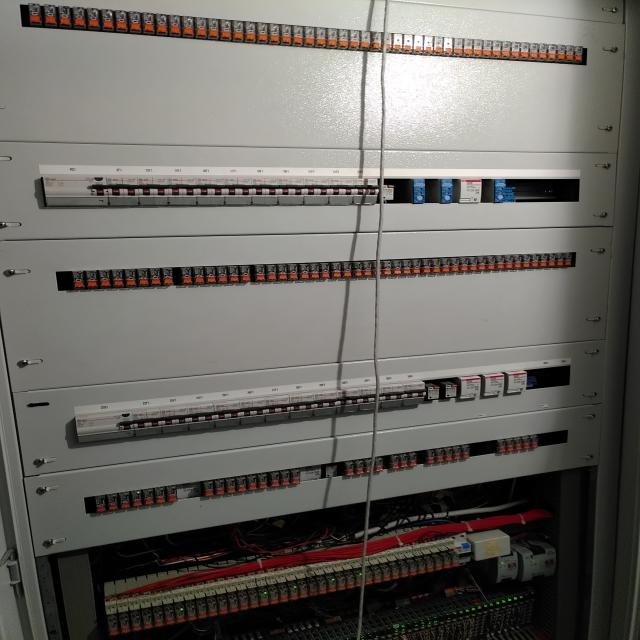Dimmer: (494, 179, 516, 203), (459, 179, 481, 203), (410, 178, 427, 204), (460, 378, 480, 398), (484, 374, 504, 394), (438, 179, 454, 203), (178, 483, 201, 498), (300, 466, 322, 481), (508, 373, 526, 391)
FI_Sicherungskombi: (450, 533, 472, 563)
Leitungsschutzschalter: (38, 166, 110, 207), (73, 407, 135, 440), (107, 166, 141, 207), (137, 167, 171, 206), (131, 399, 165, 436), (196, 167, 225, 207), (168, 167, 198, 205), (224, 167, 252, 205), (277, 168, 305, 205), (302, 168, 330, 205), (163, 396, 190, 434), (252, 168, 278, 204), (328, 168, 354, 204), (188, 395, 216, 428), (214, 391, 241, 425), (264, 387, 292, 419), (240, 389, 266, 423), (335, 380, 362, 412), (311, 381, 337, 414), (289, 385, 314, 418), (353, 169, 376, 203), (377, 377, 403, 407), (401, 374, 426, 405), (360, 379, 381, 410), (380, 181, 400, 203), (441, 382, 458, 398), (426, 384, 440, 401)
Relais: (57, 6, 73, 28), (28, 4, 42, 28), (72, 7, 87, 29), (86, 8, 101, 30), (127, 11, 142, 33), (43, 5, 57, 28), (141, 12, 155, 34), (114, 10, 128, 32), (154, 14, 168, 35), (169, 15, 182, 37), (575, 44, 590, 63), (102, 9, 115, 30), (232, 20, 245, 41), (256, 22, 269, 43), (207, 19, 220, 39), (220, 20, 233, 40), (195, 17, 207, 38), (85, 270, 99, 288), (110, 269, 124, 287), (136, 268, 150, 286), (381, 259, 394, 278), (268, 23, 280, 43), (245, 22, 257, 42), (292, 25, 304, 45), (303, 26, 315, 46), (349, 29, 361, 49), (72, 271, 86, 288), (123, 269, 137, 286), (98, 270, 111, 288), (326, 28, 338, 47), (180, 267, 193, 284), (205, 266, 218, 283), (149, 268, 162, 285), (202, 479, 215, 496), (281, 24, 292, 44), (315, 27, 326, 47), (107, 492, 119, 510), (143, 487, 155, 505), (131, 489, 143, 507), (430, 257, 442, 275), (372, 31, 383, 50), (174, 604, 185, 623), (518, 42, 530, 59), (155, 486, 167, 503), (119, 491, 131, 508), (360, 31, 369, 53), (383, 32, 392, 54), (341, 262, 352, 280), (546, 252, 557, 270), (228, 595, 239, 613), (162, 268, 174, 284), (254, 265, 266, 281), (193, 267, 205, 283), (228, 266, 240, 282), (216, 266, 228, 282), (214, 478, 226, 494), (131, 614, 143, 630), (335, 574, 347, 590), (388, 563, 400, 579), (324, 465, 340, 477), (226, 477, 237, 494), (119, 616, 130, 633), (258, 589, 269, 606), (316, 577, 327, 594), (380, 565, 391, 582), (474, 38, 484, 56), (343, 461, 355, 476), (468, 256, 478, 274), (108, 617, 118, 635), (165, 607, 175, 625), (218, 597, 228, 615), (240, 265, 251, 281), (167, 485, 178, 501), (95, 496, 106, 512), (247, 475, 258, 491), (399, 452, 410, 468), (494, 256, 505, 272), (278, 586, 289, 602), (449, 551, 460, 567), (406, 559, 417, 575), (326, 576, 337, 592), (556, 44, 566, 61), (564, 45, 574, 62), (454, 37, 464, 54), (464, 38, 474, 55), (538, 43, 548, 60), (423, 36, 433, 53), (393, 34, 403, 51), (404, 34, 414, 51), (414, 34, 424, 51), (530, 254, 540, 271), (564, 251, 574, 268), (154, 609, 164, 626), (186, 603, 196, 620), (208, 599, 218, 616), (238, 593, 248, 610), (269, 587, 279, 604), (288, 583, 298, 600), (298, 581, 308, 598), (291, 469, 302, 484), (410, 260, 421, 275), (440, 553, 451, 568), (415, 558, 426, 573), (371, 567, 382, 582), (433, 38, 442, 56), (523, 253, 532, 271), (143, 611, 152, 629), (546, 44, 556, 60), (511, 42, 521, 58), (484, 40, 494, 56), (443, 37, 453, 53), (270, 471, 280, 487), (390, 454, 400, 470), (237, 476, 247, 492), (258, 473, 268, 489), (281, 470, 291, 486), (353, 262, 363, 278), (197, 601, 207, 617), (248, 591, 258, 607), (398, 561, 408, 577), (318, 264, 330, 277), (330, 264, 342, 277), (373, 264, 384, 278), (421, 261, 432, 275), (556, 252, 565, 269), (308, 579, 317, 596), (393, 257, 401, 276), (374, 457, 384, 472), (355, 460, 365, 475), (408, 453, 418, 468), (450, 258, 460, 273), (458, 258, 468, 273), (486, 257, 496, 272), (432, 555, 442, 570), (424, 557, 434, 572), (345, 573, 355, 588), (529, 42, 538, 58), (513, 255, 522, 271), (426, 450, 436, 464), (460, 445, 470, 459), (496, 438, 506, 452), (502, 44, 512, 58), (269, 266, 277, 283), (289, 264, 297, 281), (364, 262, 372, 279), (441, 259, 450, 274), (185, 14, 191, 36), (402, 261, 412, 274), (301, 264, 309, 280), (365, 569, 373, 585), (436, 449, 445, 463), (340, 30, 348, 45), (505, 256, 513, 271), (354, 572, 362, 587), (514, 438, 523, 451), (310, 265, 319, 278), (280, 264, 286, 283), (530, 434, 538, 448), (478, 258, 486, 272), (453, 448, 462, 460), (542, 253, 548, 270), (495, 42, 501, 56)
Schaltkasten: (3, 0, 596, 640)
